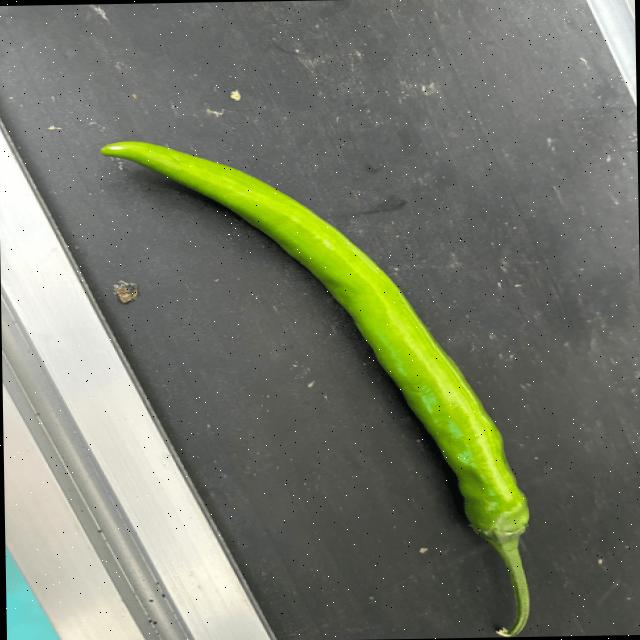chili: (94, 138, 529, 548)
